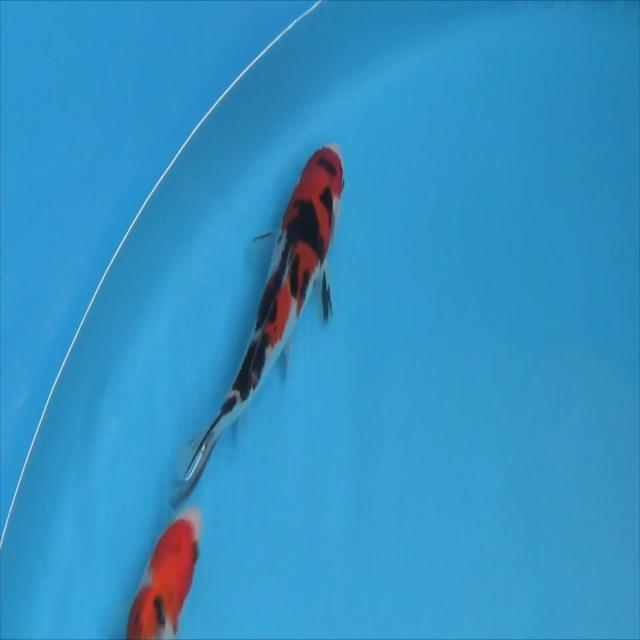Sanke: (168, 141, 346, 512), (125, 505, 203, 638)
